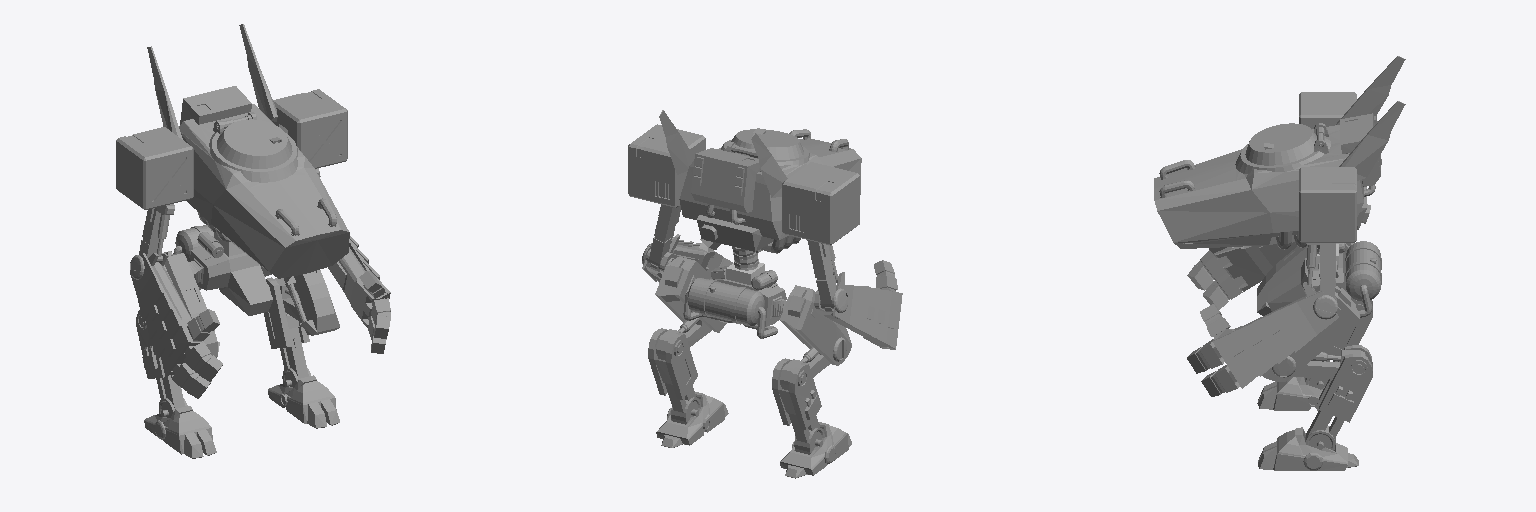
Rendered from mech.obj.
3 views of the same model, side by side, from view 1: azimuth 30°, elevation 25°; view 2: azimuth 150°, elevation 25°; view 3: azimuth 270°, elevation 25° (orthographic).
Visible parts, largest first — view 1: Robot_poly000000; view 2: Robot_poly000000; view 3: Robot_poly000000.
Boxes of the visible parts, x1,y1,x2,y2 form: Robot_poly000000: [116, 24, 390, 458]; Robot_poly000000: [628, 110, 902, 478]; Robot_poly000000: [1154, 56, 1405, 470].
Size of the model in its own units: 5.67 by 8.8 by 5.64.